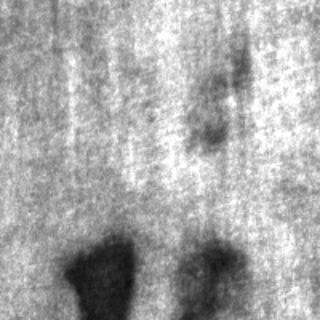patches: (61, 230, 137, 318), (174, 234, 246, 318)
